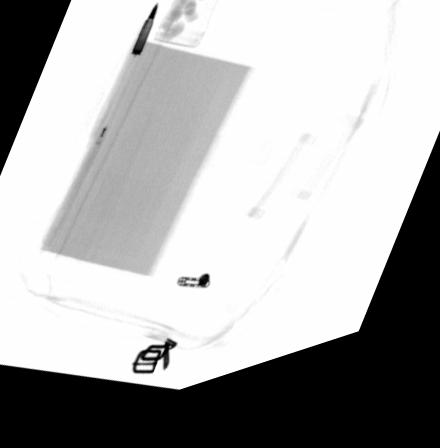Bullet: (131, 10, 159, 63)
